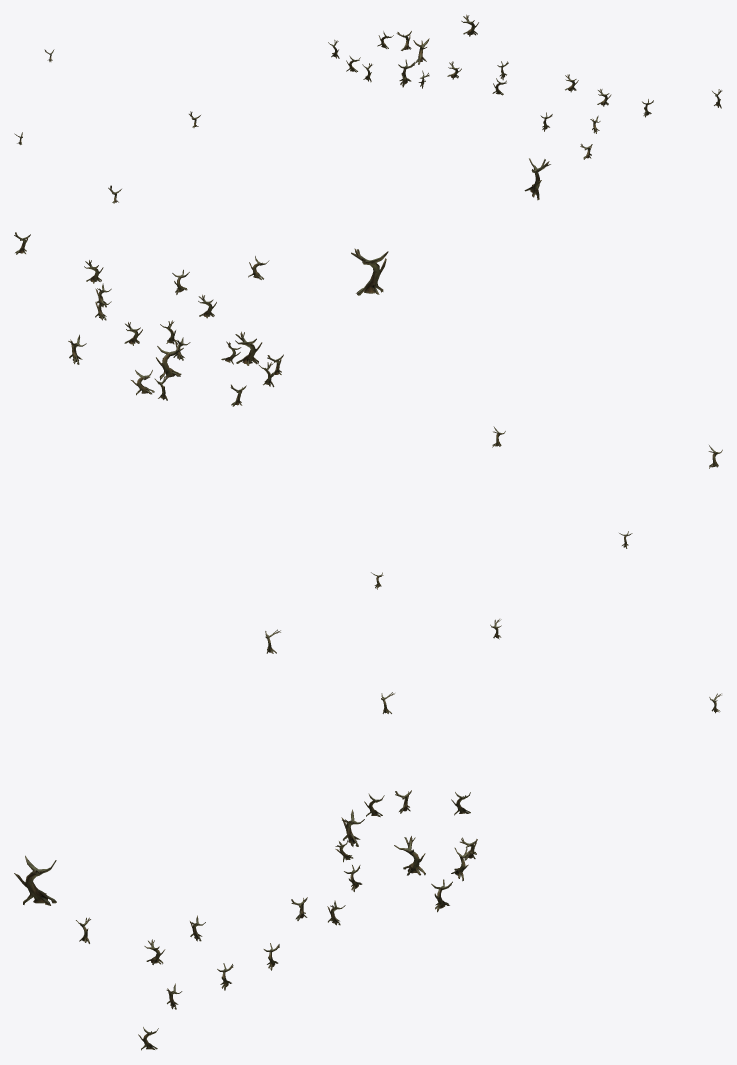
Rendered from DeadThreesBlock2.FBX.
3 views of the same model, one above another, from view 1: azimuth 30°, elevation 25°; view 2: azimuth 150°, elevation 25°; view 3: azimuth 270°, elevation 25° (orthographic). The views are drawn at different scales.
Visible parts, largest first — view 1: Group22297; view 2: Group22297; view 3: Group22297.
Boxes of the visible parts, x1,y1,x2,y2 form: Group22297: (14, 14, 722, 203); Group22297: (14, 232, 722, 589); Group22297: (14, 619, 721, 1050).
Size of the model in its own units: 1321 by 124 by 984.
